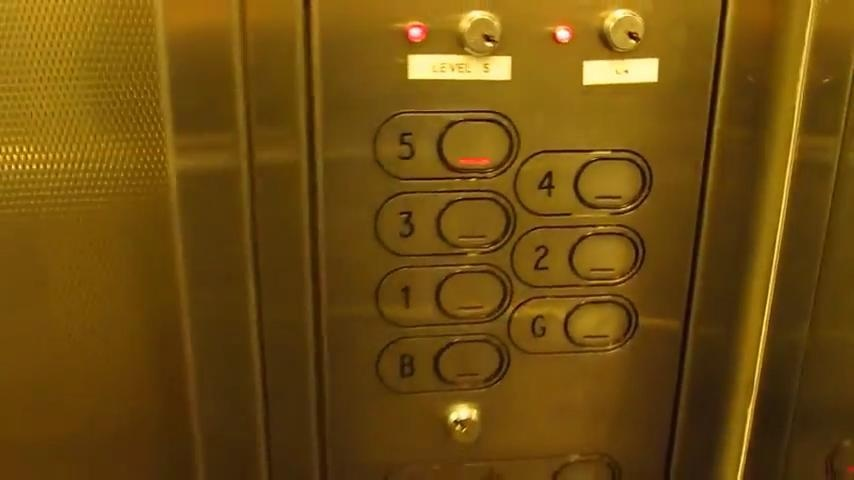1: (375, 261, 517, 328)
2: (507, 221, 648, 290)
3: (375, 185, 517, 259)
4: (511, 145, 654, 218)
5: (371, 106, 522, 182)
B: (373, 330, 512, 398)
G: (505, 292, 641, 356)
keyhole: (455, 8, 503, 59), (600, 8, 645, 53)
